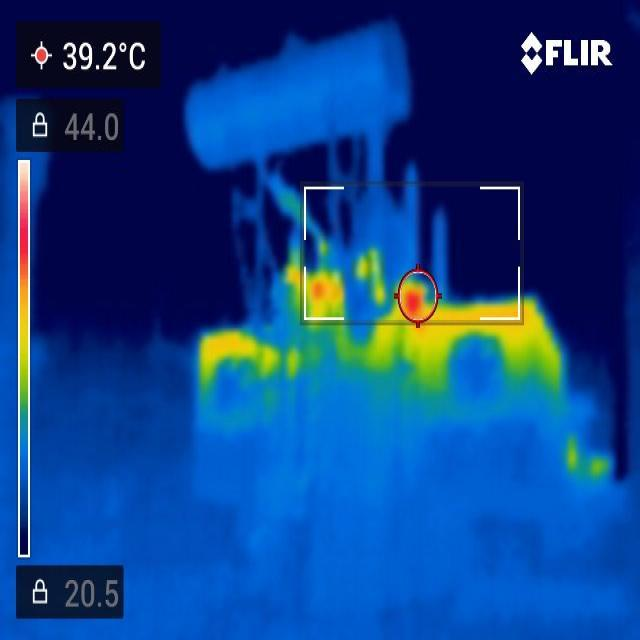Loose Joint -Faulty: (345, 259, 466, 335), (292, 263, 338, 324)
Loose Joint -Potential: (481, 297, 566, 392)
